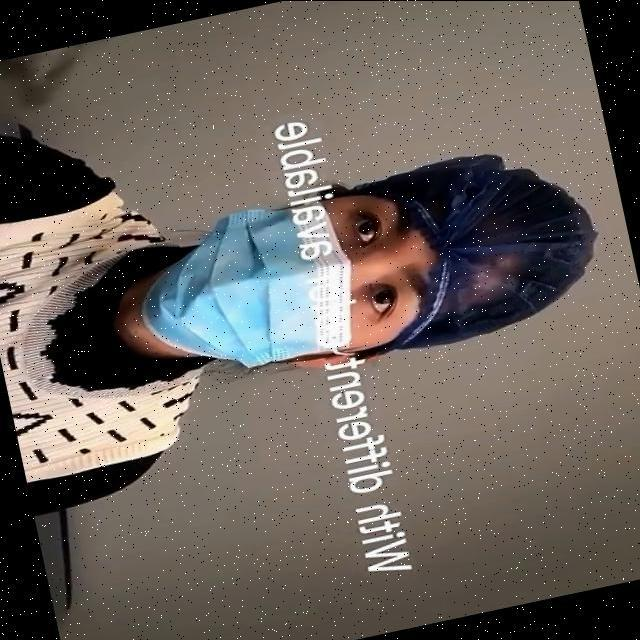gloves: (418, 166, 596, 326)
